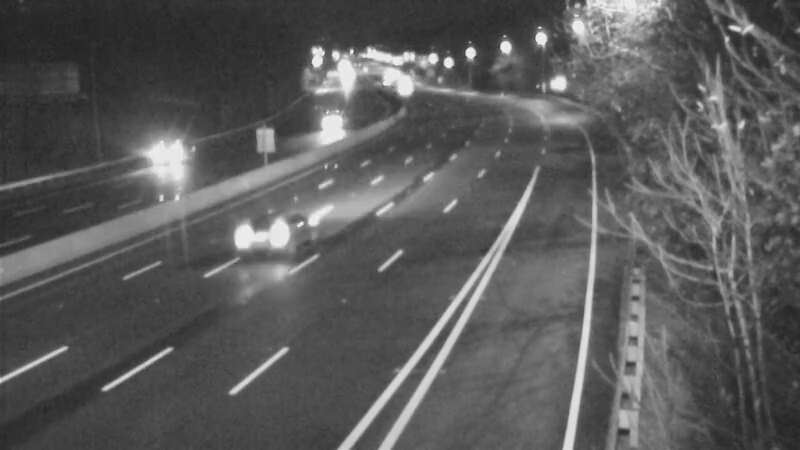vehicle: (221, 197, 301, 277), (131, 117, 211, 197), (376, 62, 426, 112), (304, 100, 354, 150)
